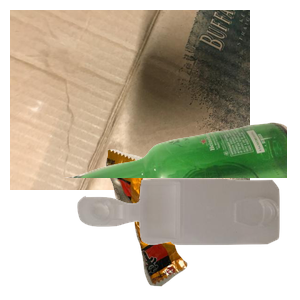cardboard: (10, 10, 250, 190)
glass: (60, 120, 300, 300)
plastic: (75, 176, 300, 300)
trash: (103, 147, 300, 300)
